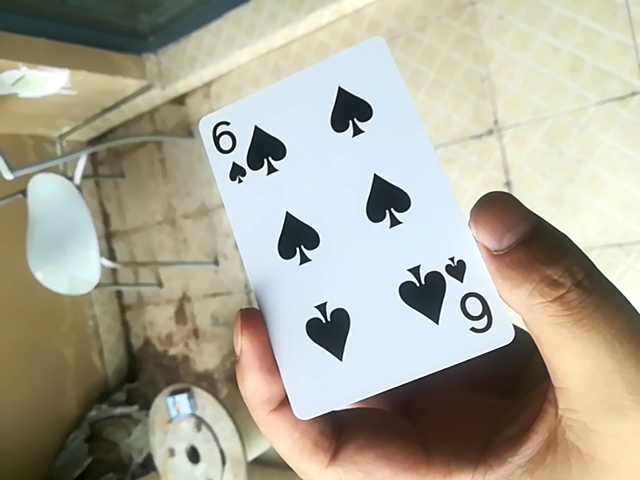ht 6: (195, 33, 515, 424)
